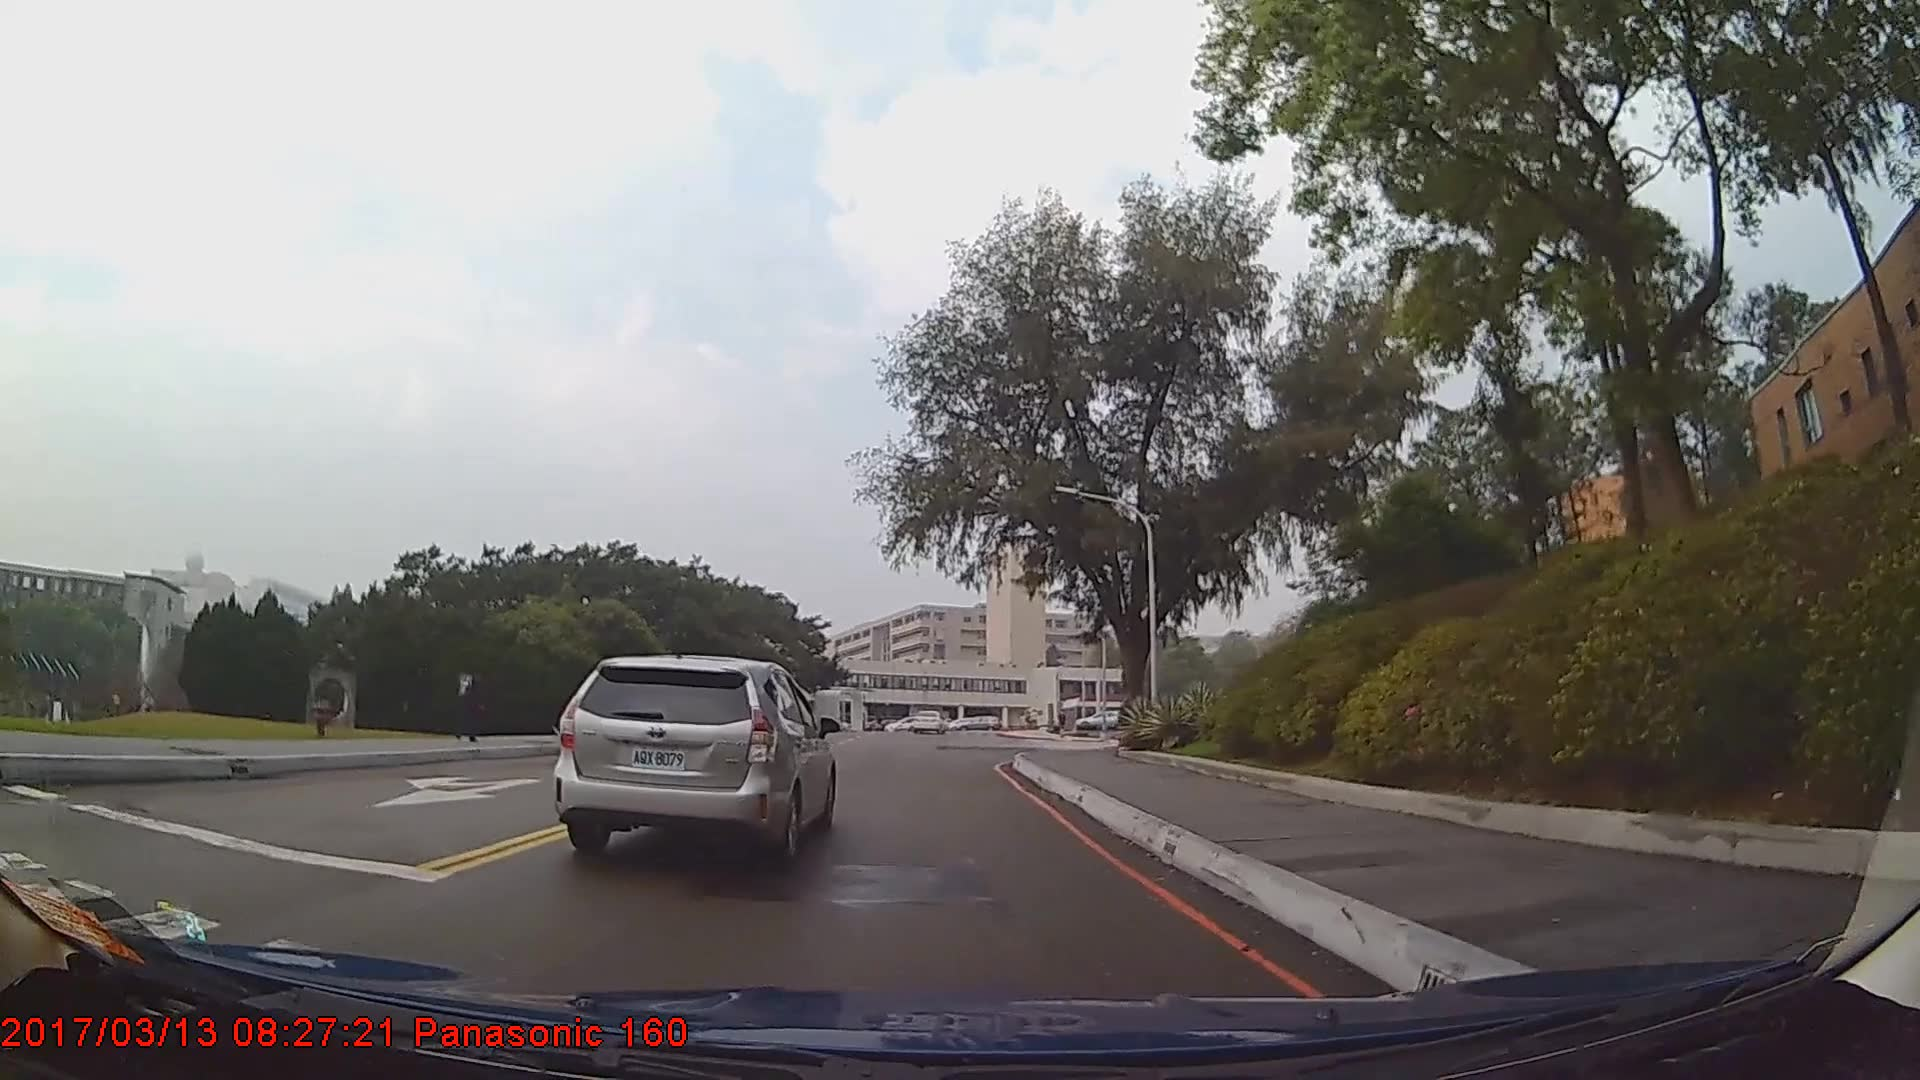pedestrian: (448, 653, 492, 749)
vehicle: (553, 651, 837, 866), (910, 706, 946, 733)
